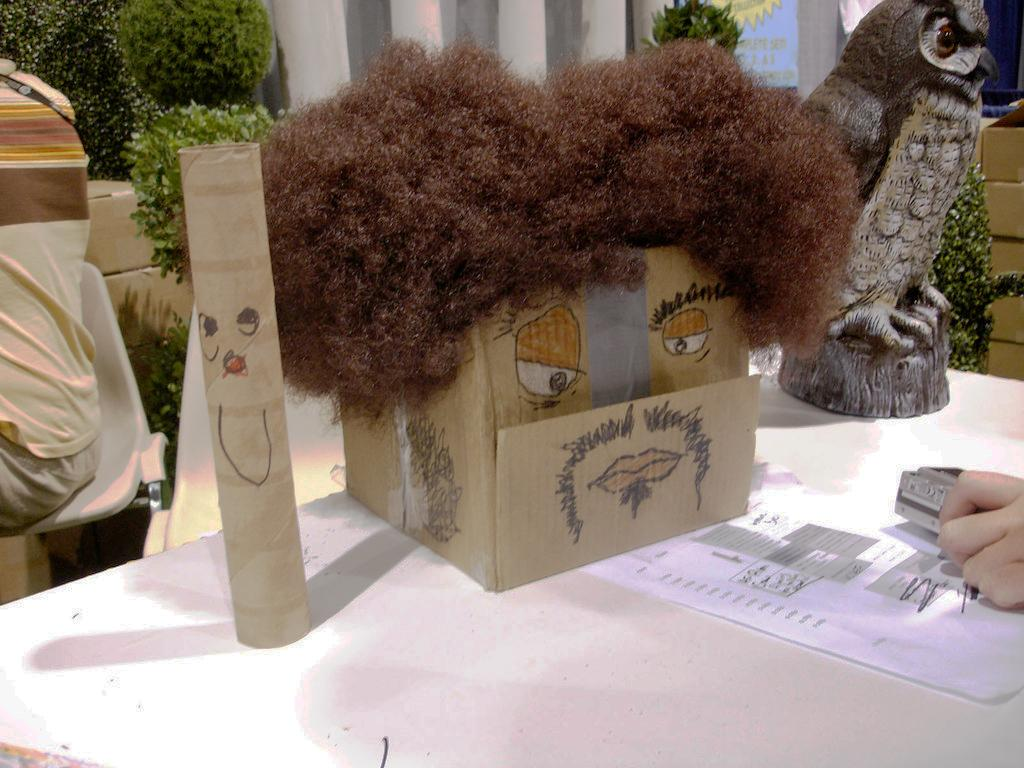Owl: (795, 2, 999, 367)
